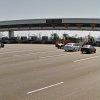Bridge: (3, 15, 97, 36)
